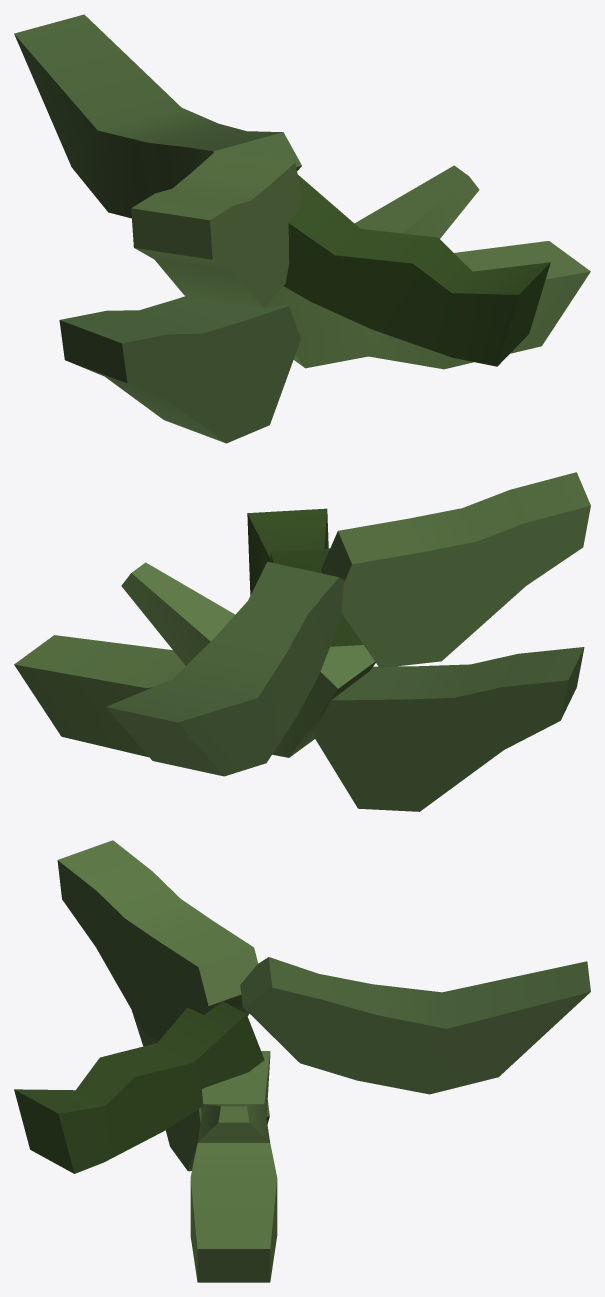
The model's file is EverGreenBranch02.fbx.
The picture shows the model from 3 angles, top to bottom: view 1: azimuth 30°, elevation 25°; view 2: azimuth 150°, elevation 25°; view 3: azimuth 270°, elevation 25°; orthographic projection. The views are drawn at different scales.
Parts seen in each view (by area): view 1: Evergreen02; view 2: Evergreen02; view 3: Evergreen02.
Boxes of the visible parts, left/top/right/bottom form: Evergreen02: left=14, top=14, right=590, bottom=443; Evergreen02: left=14, top=472, right=590, bottom=811; Evergreen02: left=14, top=840, right=590, bottom=1282.
Bounding box in the file's own units: 171 × 89.86 × 185.
